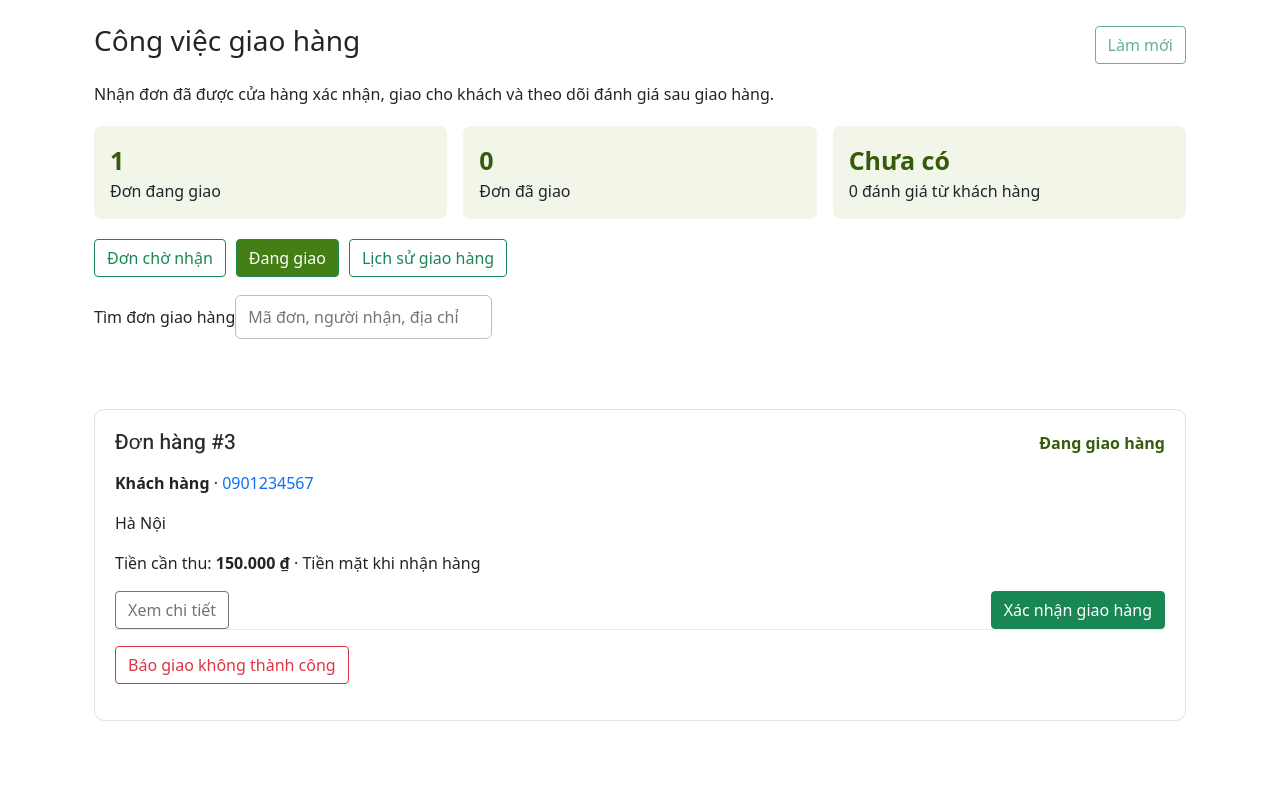
active orders render without waiting for slow history or a failed available list
This screenshot has width=1280, height=800.
Expected: the element named "Đơn giao hàng 3" is shown, [94, 409, 1186, 721]
Expected: the button "Xác nhận giao hàng" is enabled, [991, 591, 1165, 629]
Click the tab "Đơn chờ nhận" at (160, 258), box [94, 239, 226, 277]
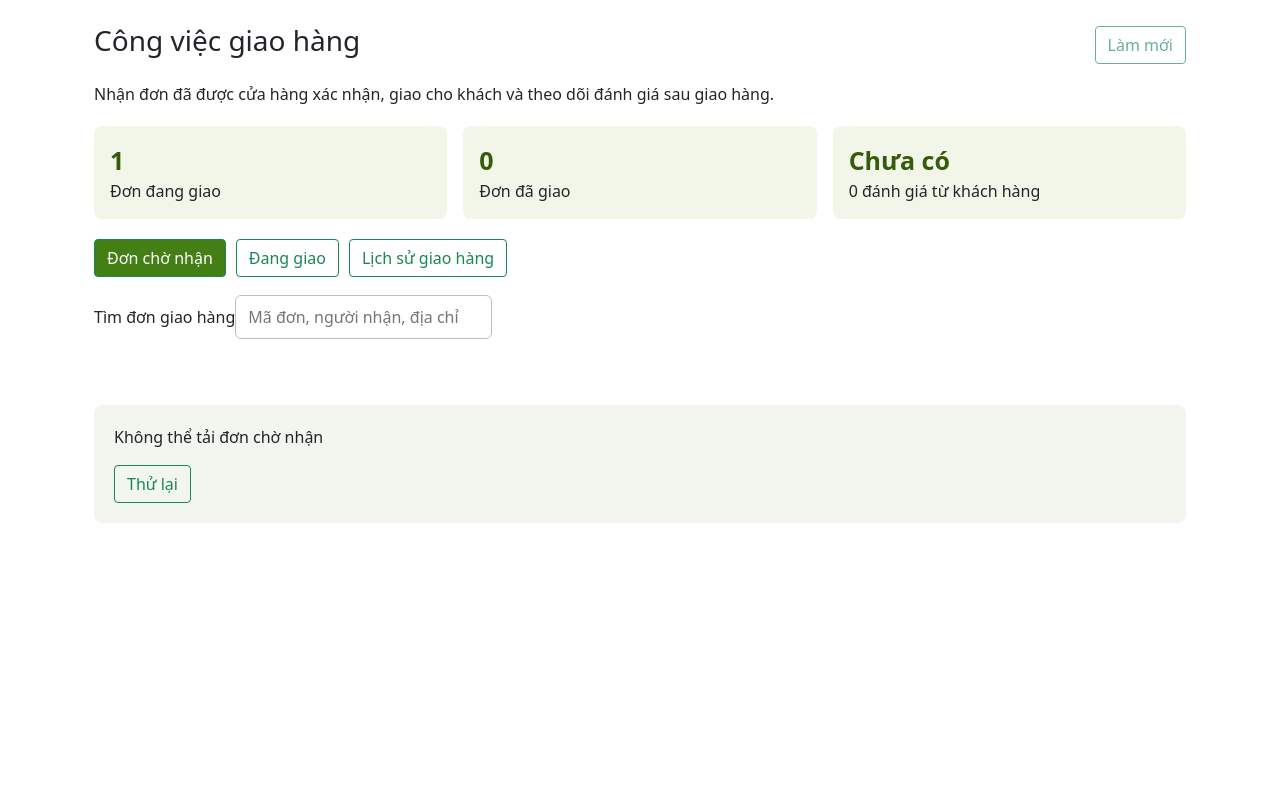
Result: the message "Không thể tải đơn chờ nhận Thử lại" is shown at [94, 405, 1186, 523]
